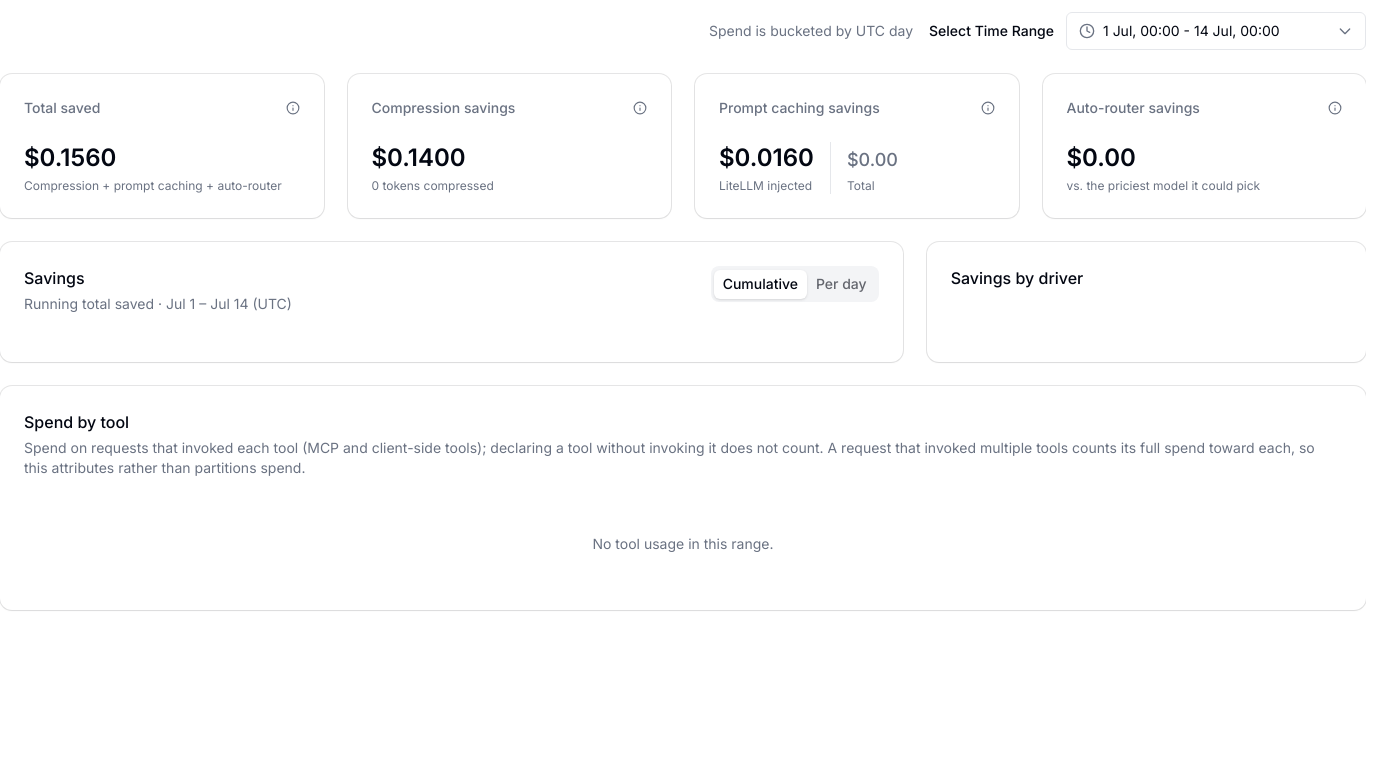
Scenario: UsageTab › says what the line means and over what range
Check: the text "Running total saved · Jul 1 – Jul 14 (UTC)" is shown, box top-left (24, 295), bottom-right (292, 312)
Click the tab "Per day" at (841, 284), box top-left (807, 270), bottom-right (876, 298)
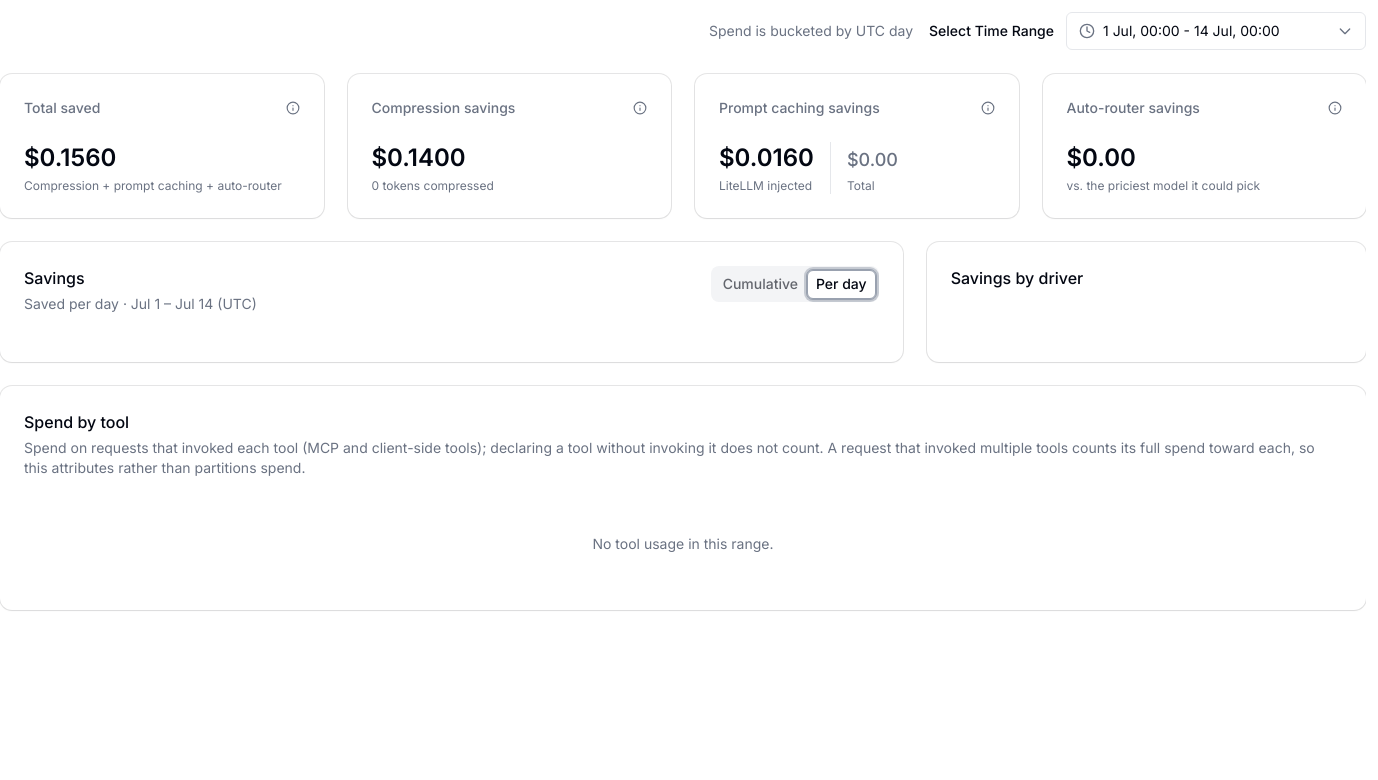
Check: the text "Saved per day · Jul 1 – Jul 14 (UTC)" is shown, box top-left (24, 295), bottom-right (257, 312)
